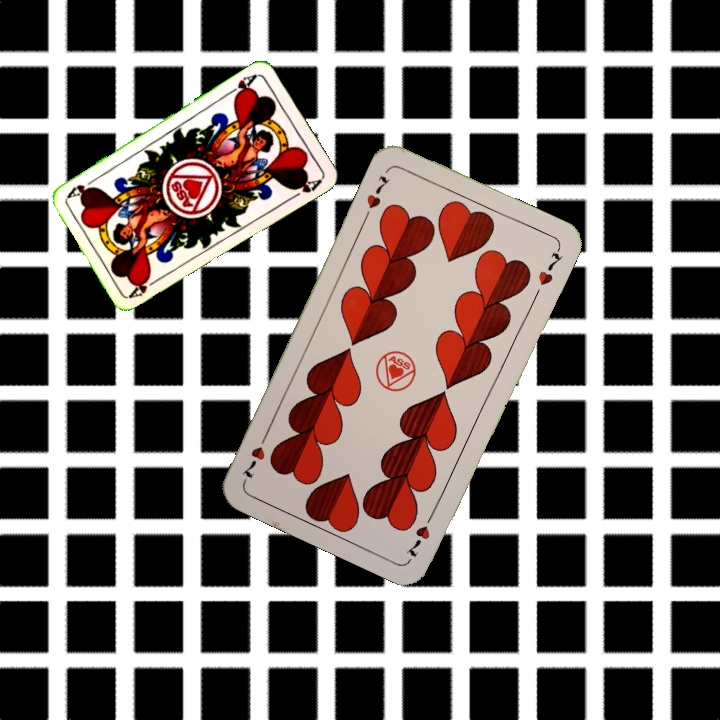H7: (402, 506, 437, 560), (362, 171, 393, 212)
HA: (223, 70, 259, 102), (126, 273, 163, 300)
